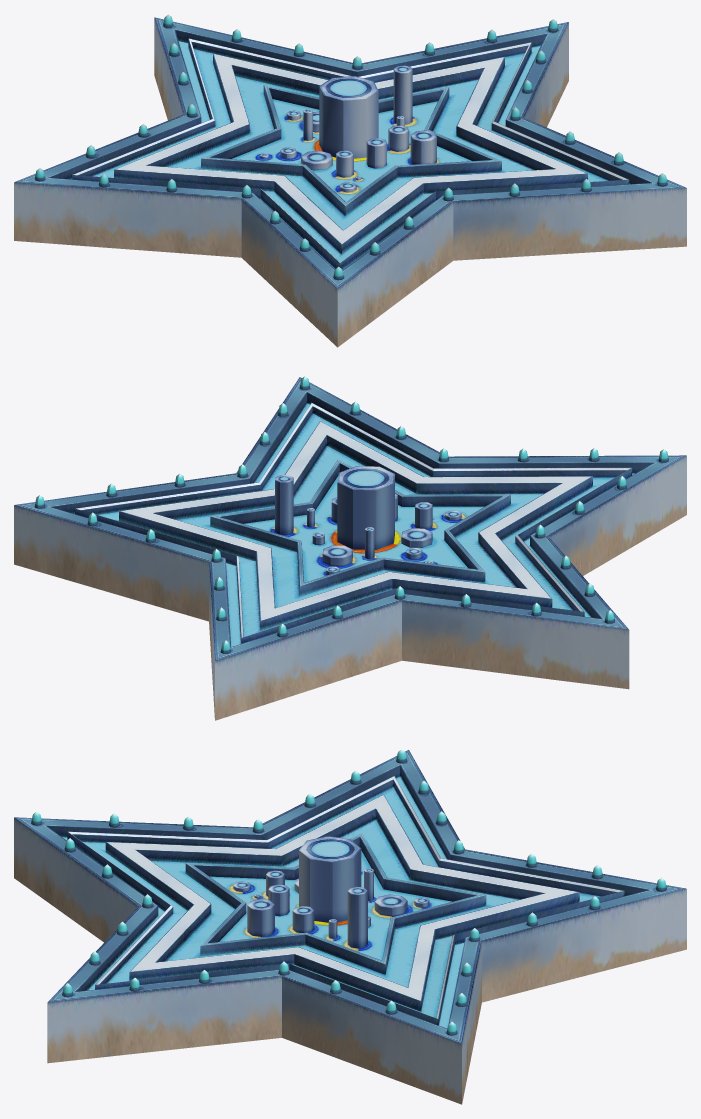
File: fontan.fbx
The picture shows the model from 3 angles, top to bottom: view 1: azimuth 30°, elevation 25°; view 2: azimuth 150°, elevation 25°; view 3: azimuth 270°, elevation 25°; orthographic projection. The views are drawn at different scales.
Parts seen in each view (by area): view 1: LeisureWorld01_penquan01_Clone_; view 2: LeisureWorld01_penquan01_Clone_; view 3: LeisureWorld01_penquan01_Clone_.
Boxes of the visible parts, bbox=[...] form: LeisureWorld01_penquan01_Clone_: bbox=[14, 14, 686, 347]; LeisureWorld01_penquan01_Clone_: bbox=[14, 376, 686, 720]; LeisureWorld01_penquan01_Clone_: bbox=[14, 749, 686, 1104].
Bounding box in the file's own units: 10.87 × 1.93 × 10.51.
Materials: 1 (1 with a texture image).
